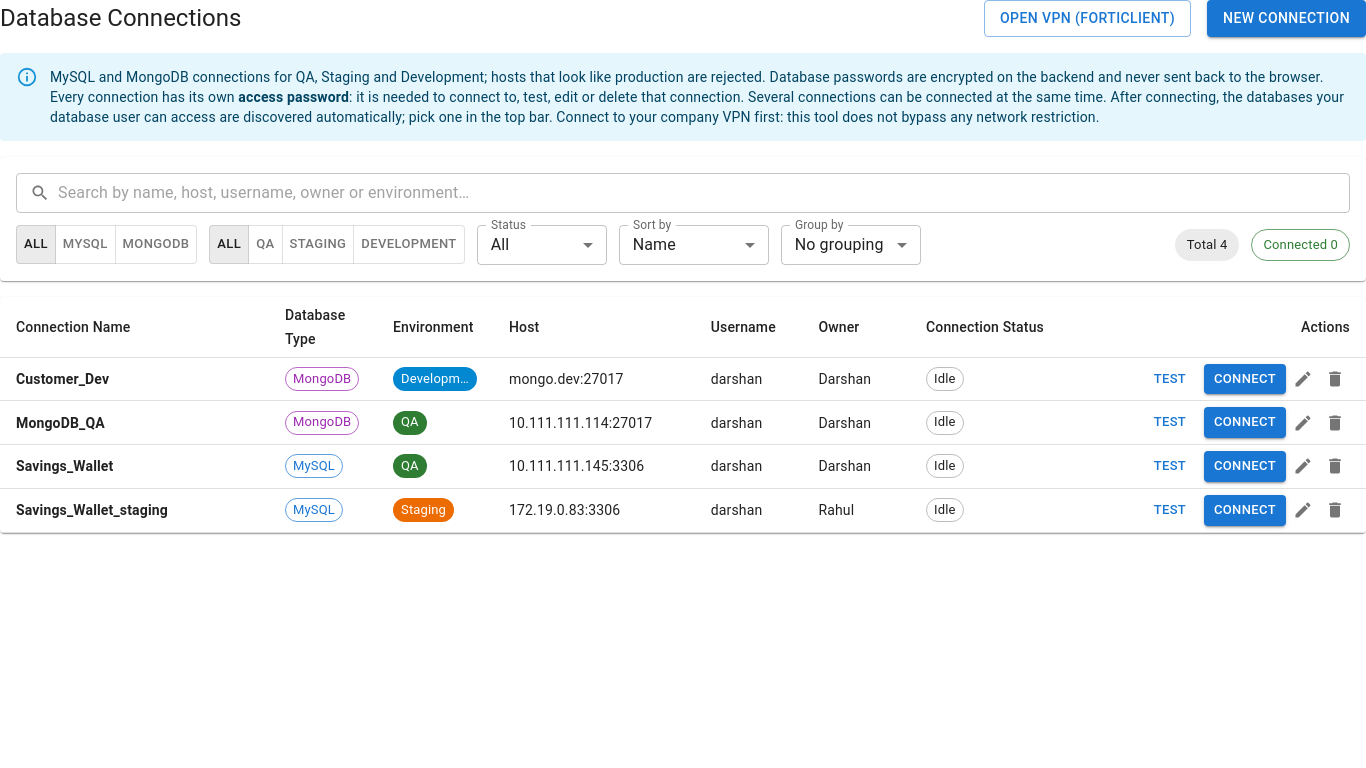
Test: connect lifecycle and feedback › keeps the prompt open with an error when the access password is wrong
Expected: the text "Savings_Wallet" is shown, [16,458,114,474]
Click the button "Connect" in the row of "10.111.111.145".
click(1245, 466)  # box [1204,451,1286,482]
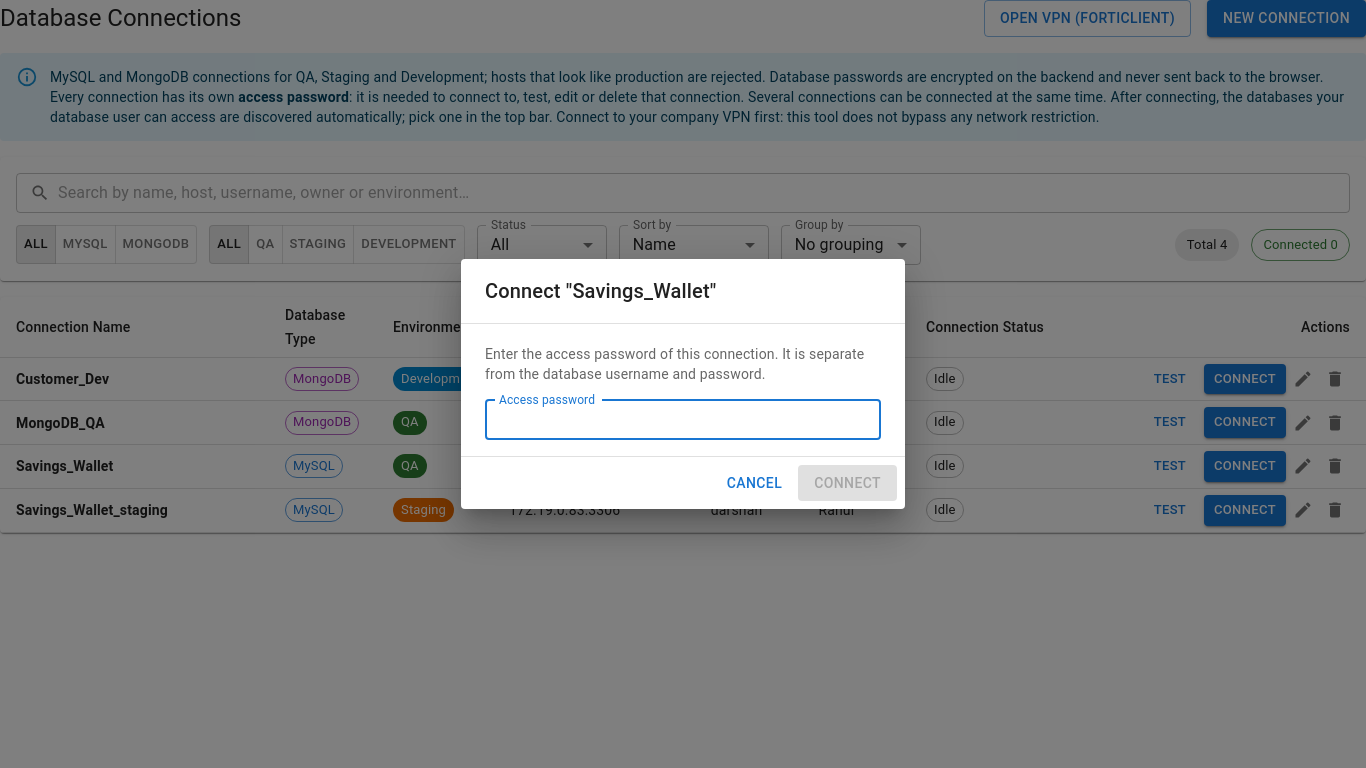
Type "guess-1" into the password field labelled "Access password".
click(683, 420); type("guess-1")  # box [485,400,881,440]
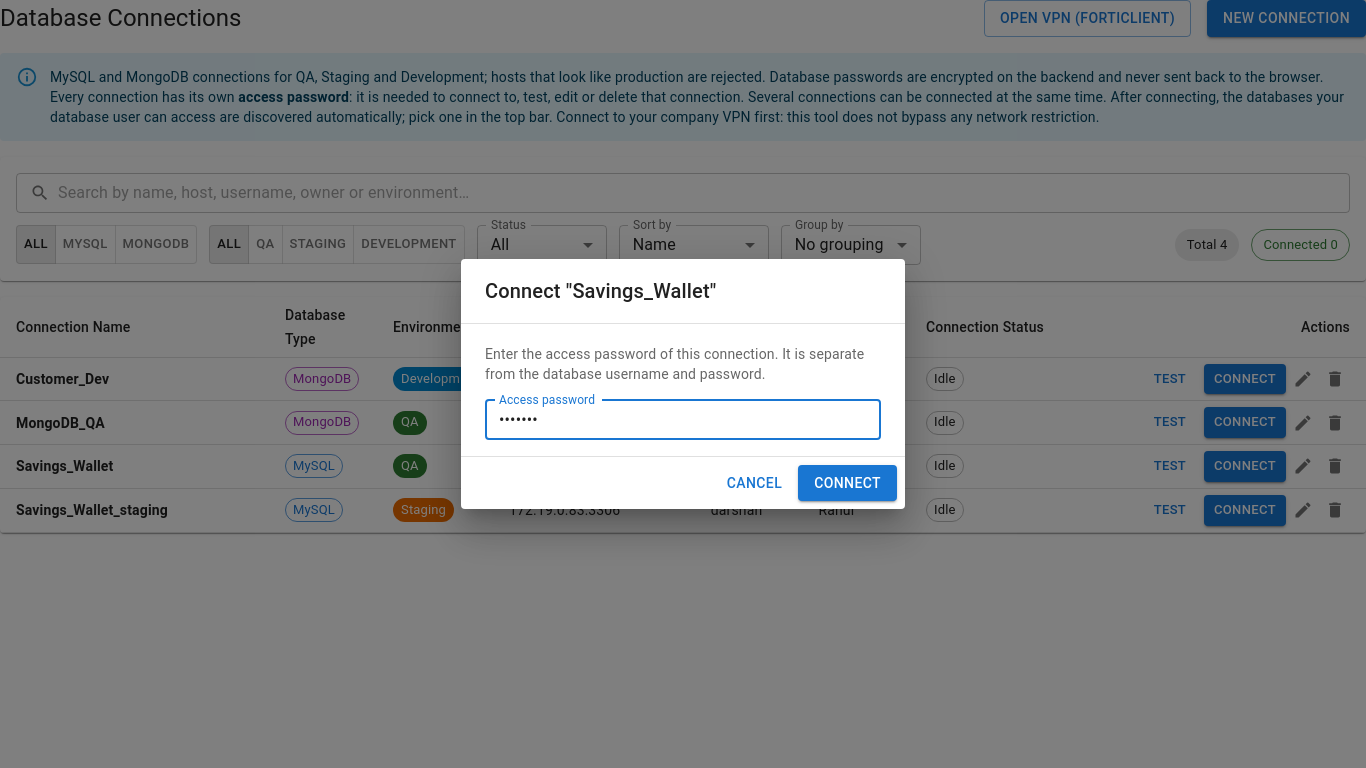
Click the button "Connect".
click(848, 483)  # box [798,465,897,501]
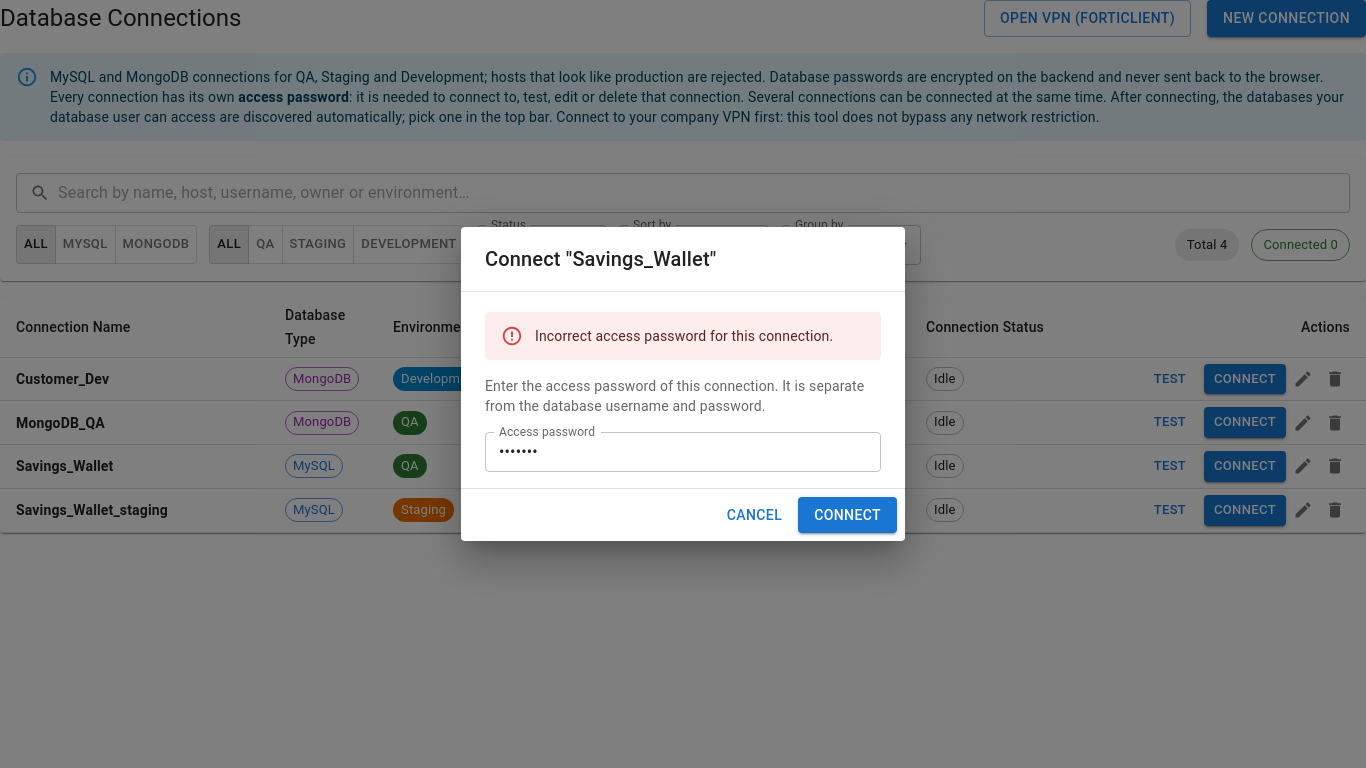
Expected: the text "Incorrect access password for this connection." is shown, [535,328,833,344]
